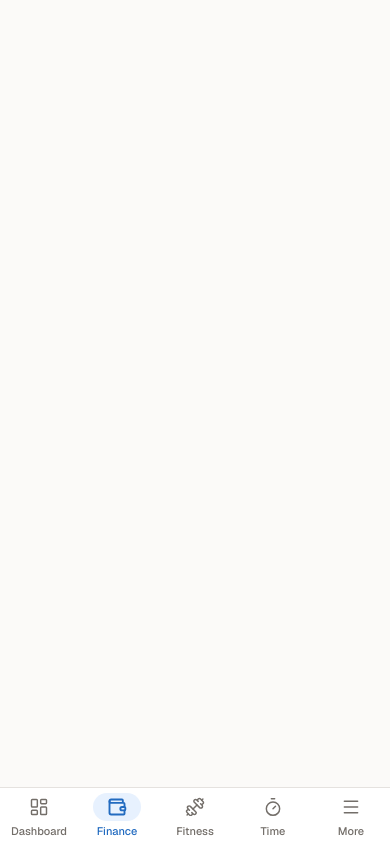
Test case: BottomNav › closes from its own close button
Step 1. Click the button "More" → (351, 816), box [312, 788, 389, 843]
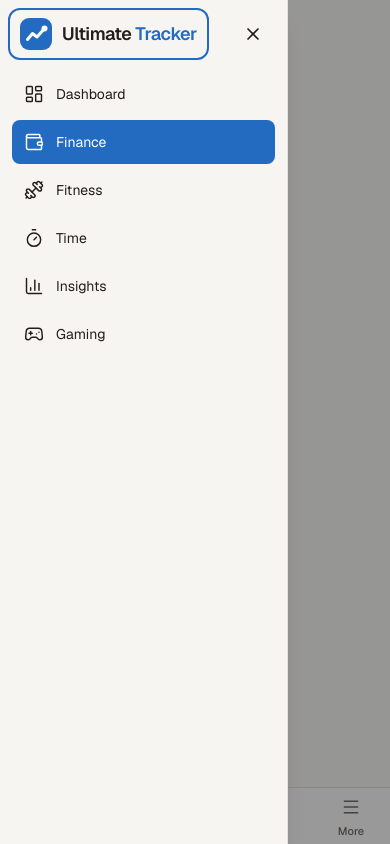
Step 2. Click the button named "Close navigation" → (253, 34), box [231, 12, 275, 56]
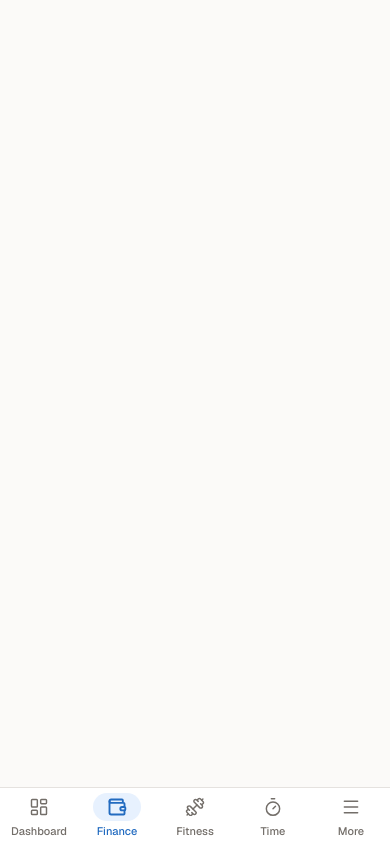
Result: the button "More" is collapsed at [312, 788, 389, 843]
